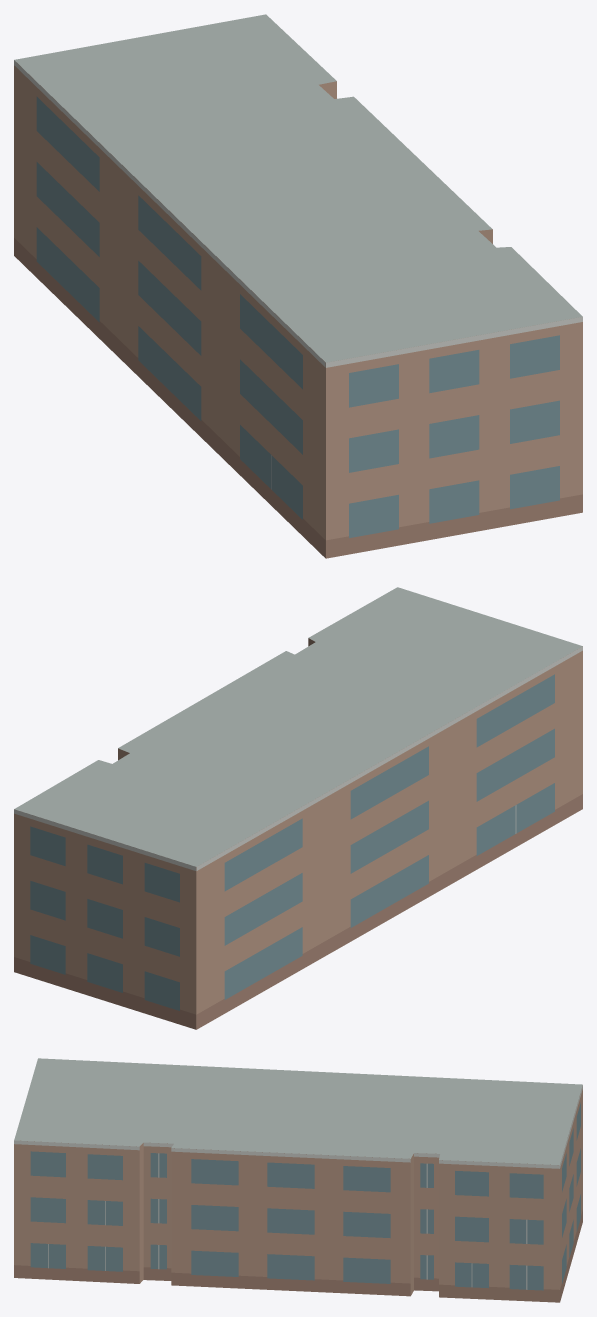
Rendered from survey-upis-32928075.glb.
The picture shows the model from 3 angles, top to bottom: view 1: azimuth 30°, elevation 25°; view 2: azimuth 150°, elevation 25°; view 3: azimuth 270°, elevation 25°; orthographic projection. The views are drawn at different scales.
Visible parts, largest first — view 1: survey-upis-32928075.tmp; view 2: survey-upis-32928075.tmp; view 3: survey-upis-32928075.tmp.
Boxes of the visible parts, <box> form: survey-upis-32928075.tmp: <box>14,14,582,558</box>; survey-upis-32928075.tmp: <box>14,587,582,1029</box>; survey-upis-32928075.tmp: <box>14,1058,582,1302</box>.
Size of the model in its own units: 15.27 by 9.15 by 34.33.
